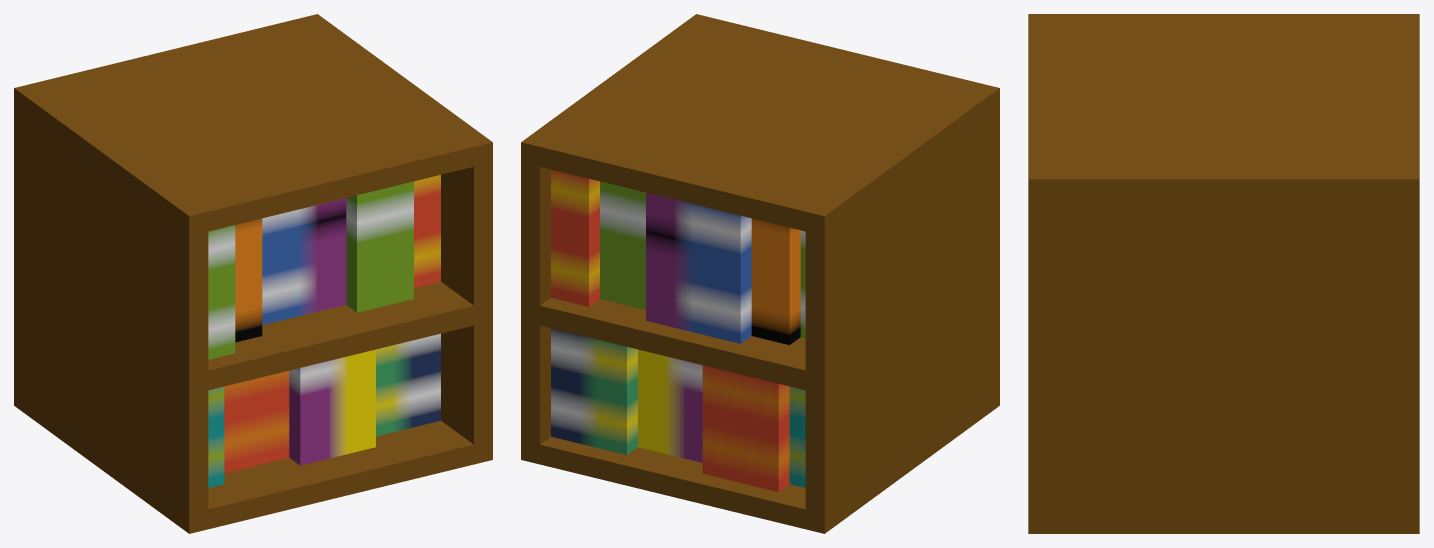
Rendered from Matrix_0.dae.
The picture shows the model from 3 angles, left to right: view 1: azimuth 30°, elevation 25°; view 2: azimuth 150°, elevation 25°; view 3: azimuth 270°, elevation 25°; orthographic projection. The views are drawn at different scales.
Parts seen in each view (by area): view 1: Matrix_0; view 2: Matrix_0; view 3: Matrix_0.
Part boxes in pixels (bbox=[...]): Matrix_0: bbox=[14, 14, 492, 533]; Matrix_0: bbox=[521, 14, 999, 533]; Matrix_0: bbox=[1028, 14, 1419, 533].
Size of the model in its own units: 16 by 16 by 16.
Materials: 1 (1 with a texture image).
